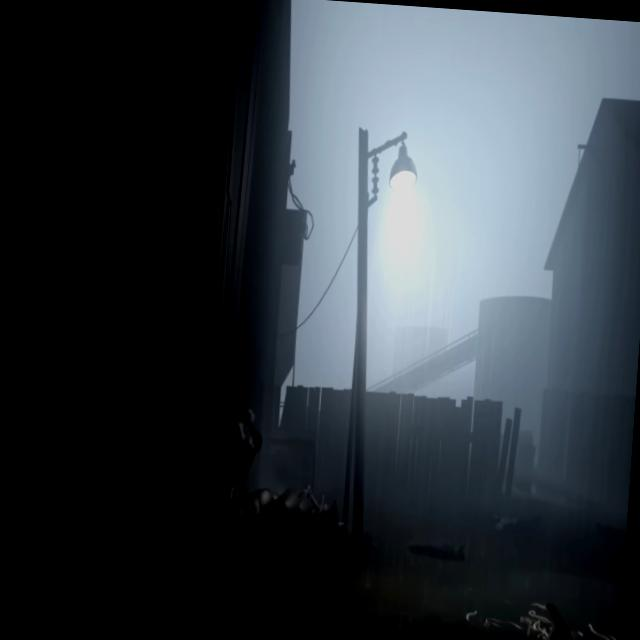boy: (233, 408, 264, 484)
